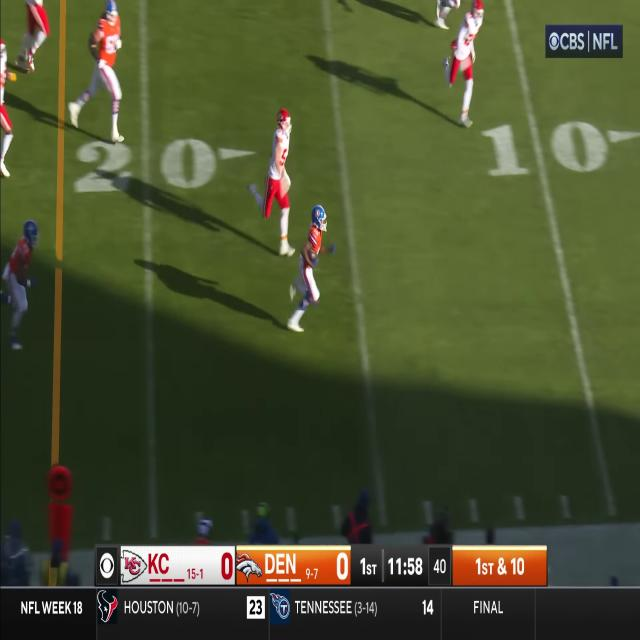Player: (291, 202, 332, 332), (90, 2, 127, 143), (263, 108, 298, 255), (2, 217, 37, 354), (451, 1, 484, 128)
